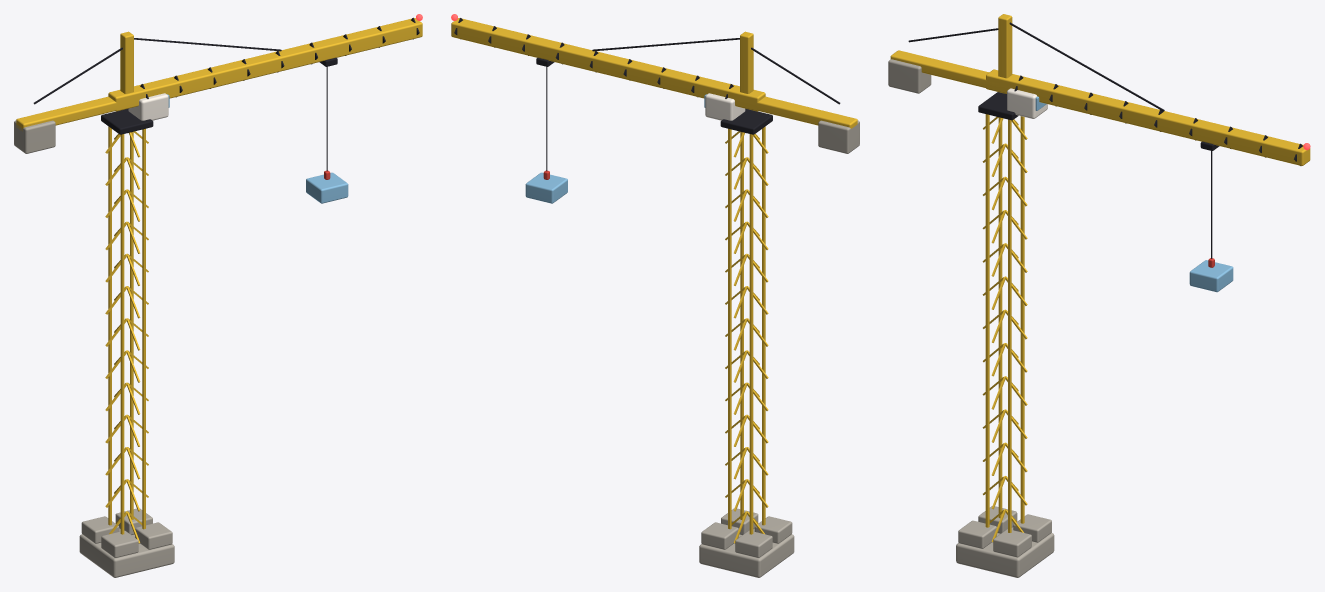
The model's file is crane.glb.
3 views of the same model, side by side, from view 1: azimuth 30°, elevation 25°; view 2: azimuth 150°, elevation 25°; view 3: azimuth 330°, elevation 25° (orthographic). The views are drawn at different scales.
Parts seen in each view (by area): view 1: crane.003, jib.007; view 2: crane.003, jib.007; view 3: crane.003, jib.007.
Boxes of the visible parts, x1,y1,x2,y2 form: crane.003: [79, 126, 174, 577]; jib.007: [14, 14, 422, 203]; crane.003: [699, 126, 794, 577]; jib.007: [451, 14, 859, 203]; crane.003: [956, 114, 1054, 577]; jib.007: [888, 14, 1310, 292].
Bounding box in the file's own units: 26.2 × 32.6 × 4.
Materials: 1 (1 with a texture image).
